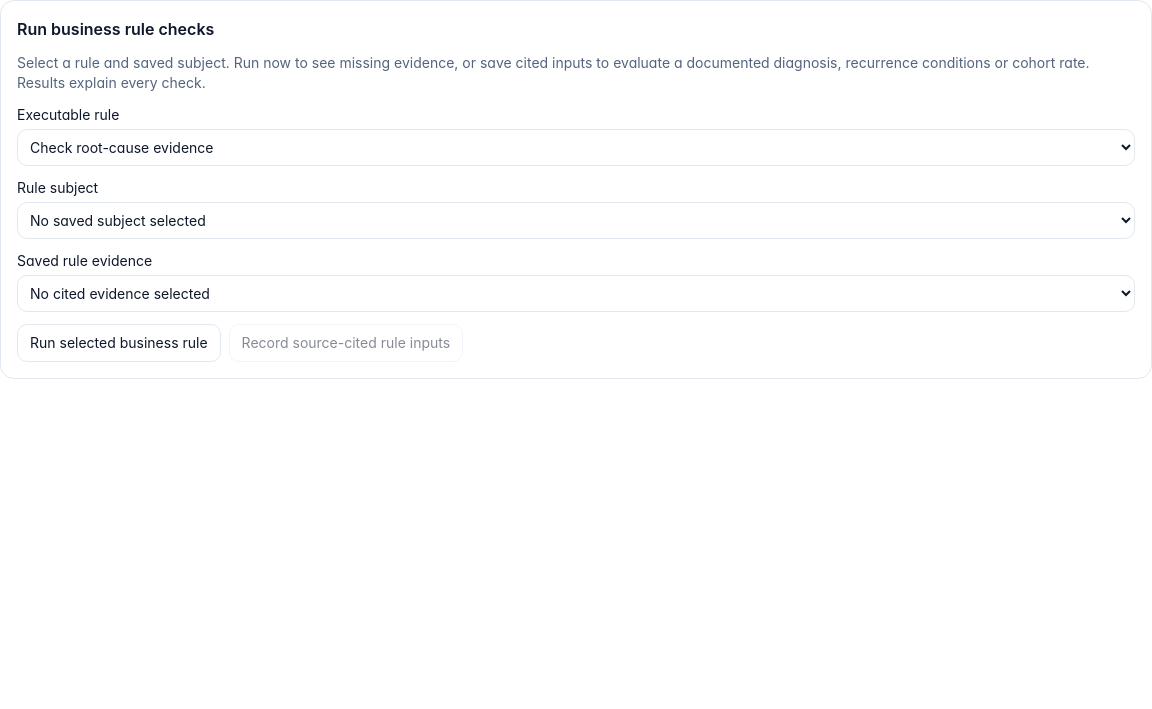
it: saves exact cited facts with a stable retry key and executes a complete rate
The image size is (1152, 709).
Later steps or results of the test are not shown.
Select "Calculate evidence-backed failure rate" in the dropdown labelled "Executable rule" at x=576, y=148, box [17, 129, 1135, 166]
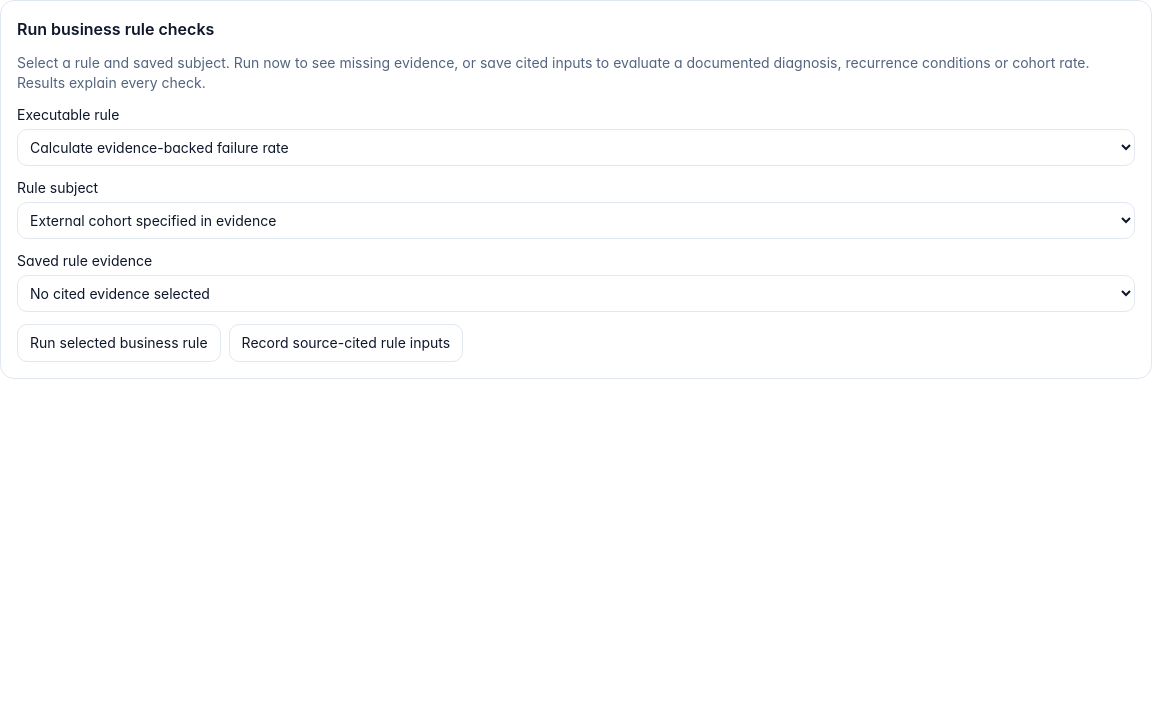
Click the button "Record source-cited rule inputs" at x=346, y=343, box [229, 324, 463, 362]
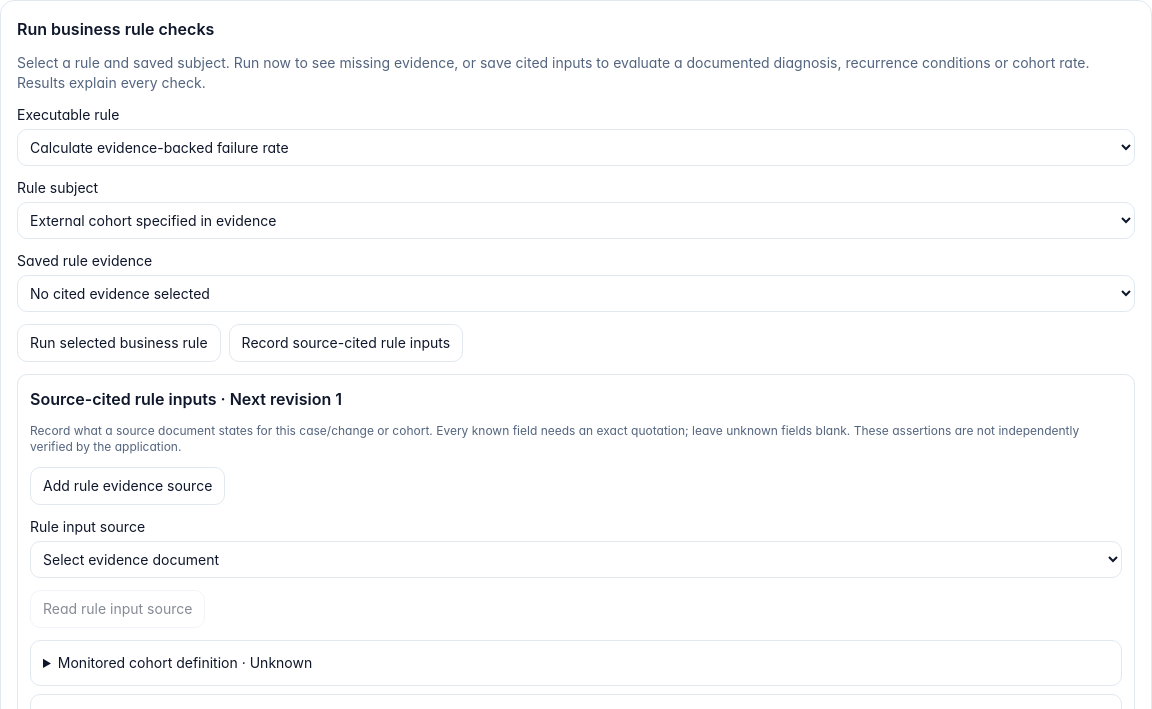
Select "Synthetic execution evidence" in the dropdown labelled "Rule input source" at x=576, y=560, box [30, 541, 1122, 578]
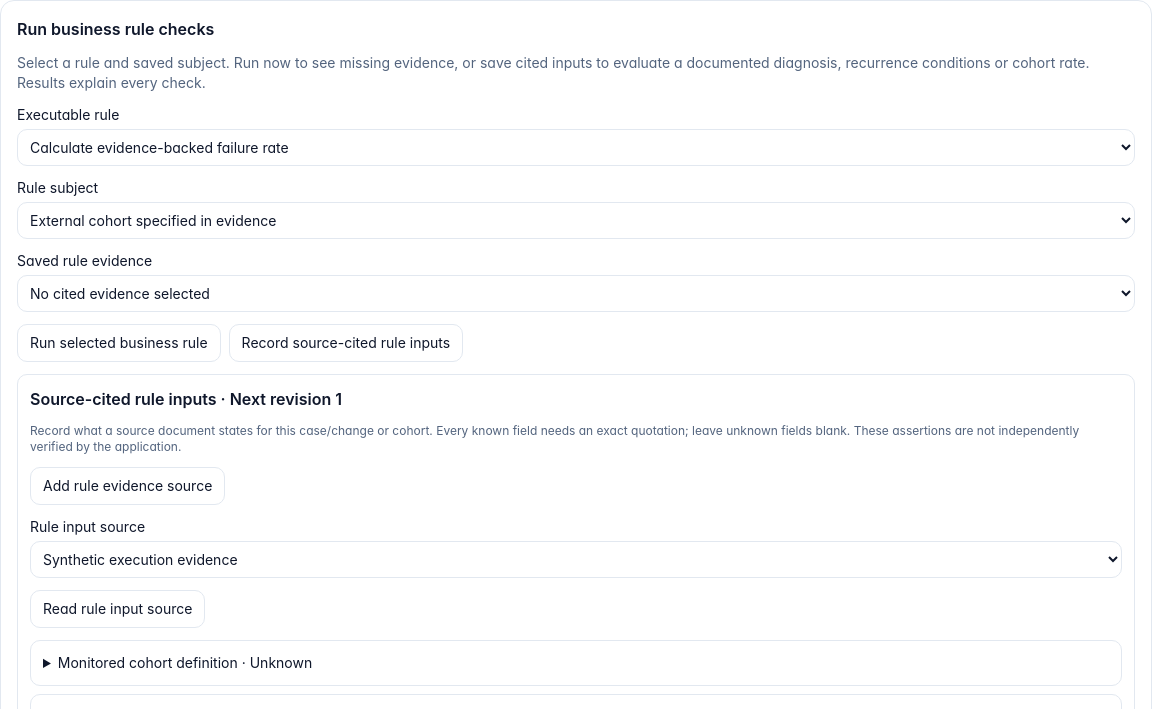
Click the button "Read rule input source" at x=118, y=609, box [30, 590, 205, 628]
(page scrolled)
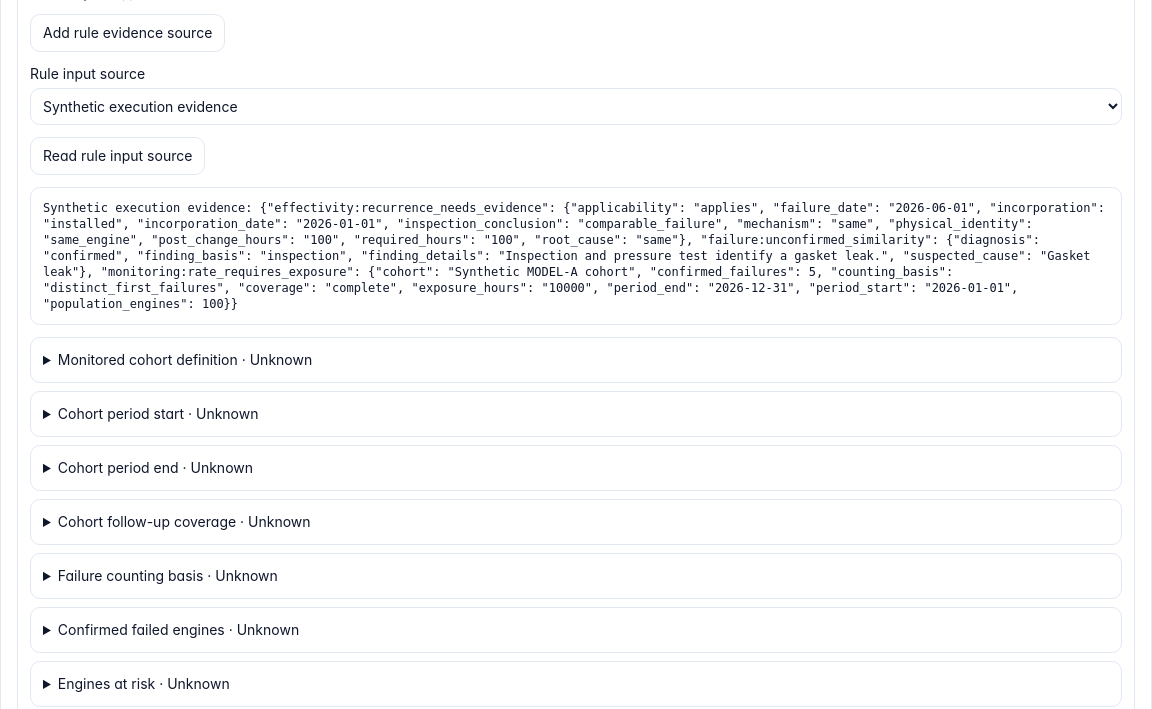
Result: the text "Synthetic execution evidence: {\"effectivity:recurrence_needs_evidence\": {\"applicability\": \"applies\", \"failure_date\": \"20" is shown at [43, 201, 1112, 311]
